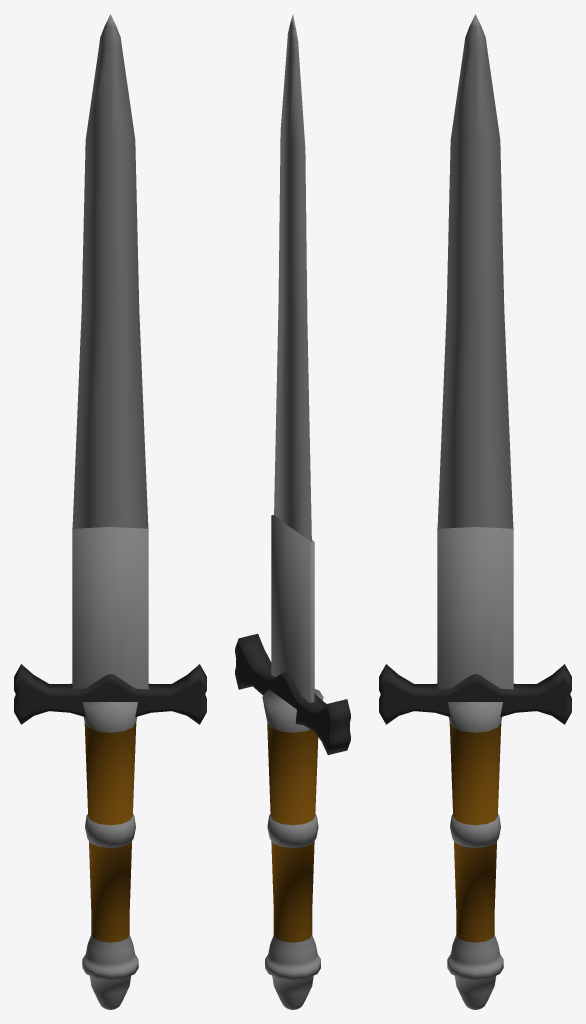
File: Dagger18_68.glb
3 views of the same model, side by side, from view 1: azimuth 90°, elevation 25°; view 2: azimuth 210°, elevation 25°; view 3: azimuth 270°, elevation 25° (orthographic).
Visible parts, largest first — view 1: Object_206, Object_208, Object_207; view 2: Object_206, Object_208, Object_207; view 3: Object_206, Object_208, Object_207.
Boxes of the visible parts, box(x1,y1,x2,y2) form: Object_206: box(72, 14, 148, 1009); Object_208: box(84, 722, 136, 942); Object_207: box(14, 664, 206, 724); Object_206: box(262, 15, 323, 1009); Object_208: box(267, 722, 318, 942); Object_207: box(235, 633, 350, 754); Object_206: box(437, 14, 513, 1009); Object_208: box(449, 722, 501, 942); Object_207: box(379, 664, 571, 724).
Bounding box in the file's own units: 0.0226 × 0.4048 × 0.0711.
